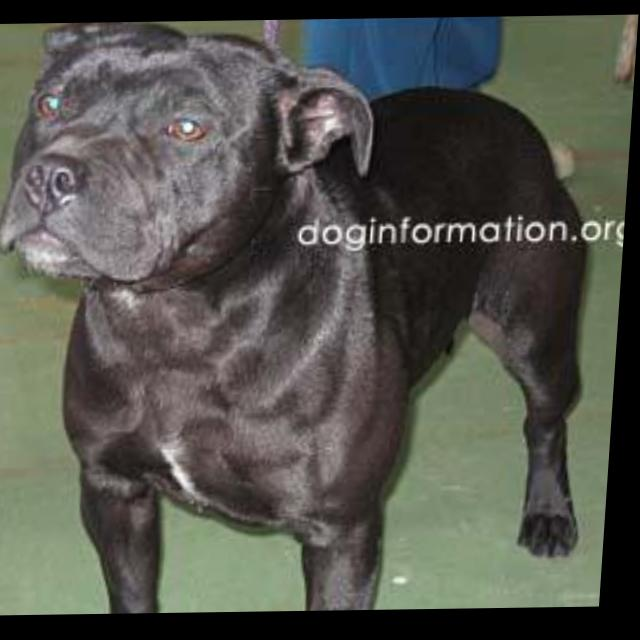staffford: (1, 18, 614, 617)
